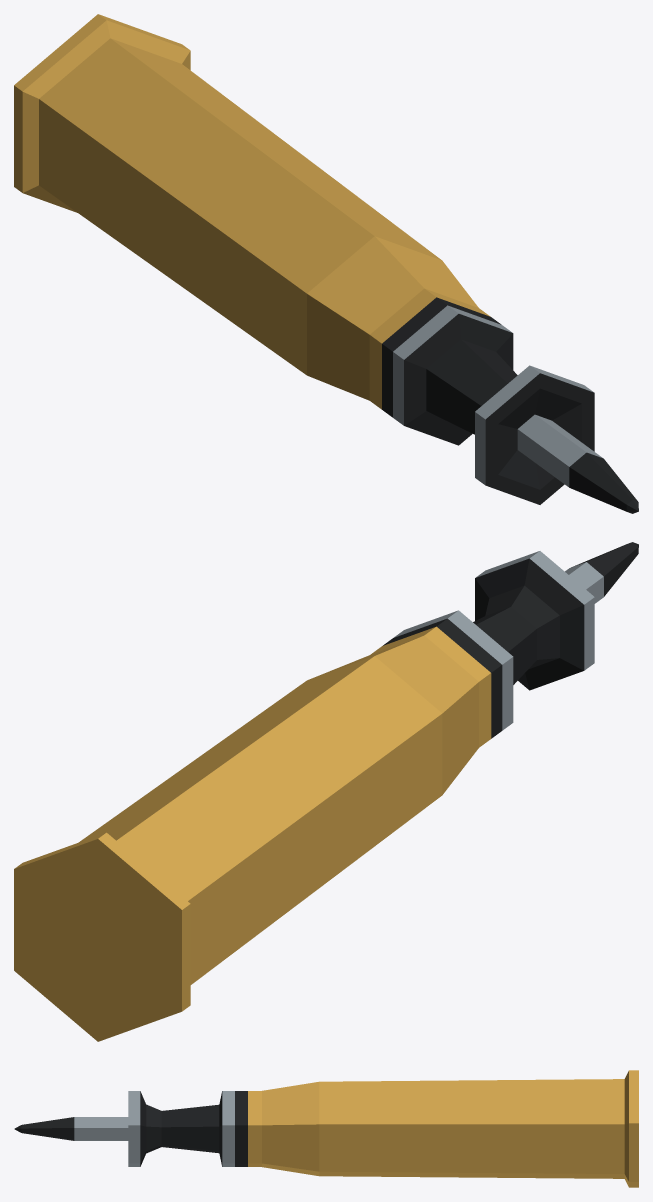
The model's file is SM_Veh_Attach_Tank_Round_02.fbx.
3 renders of one model, top to bottom at view 1: azimuth 30°, elevation 25°; view 2: azimuth 150°, elevation 25°; view 3: azimuth 270°, elevation 25°, orthographic. The views are drawn at different scales.
Visible parts, largest first — view 1: SM_Veh_Attach_Tank_Round_02; view 2: SM_Veh_Attach_Tank_Round_02; view 3: SM_Veh_Attach_Tank_Round_02.
Boxes of the visible parts, box(x1,y1,x2,y2) form: SM_Veh_Attach_Tank_Round_02: box(14, 14, 638, 513); SM_Veh_Attach_Tank_Round_02: box(14, 542, 638, 1041); SM_Veh_Attach_Tank_Round_02: box(14, 1070, 638, 1187).
Bounding box in the file's own units: 22.24 × 25.68 × 124.
